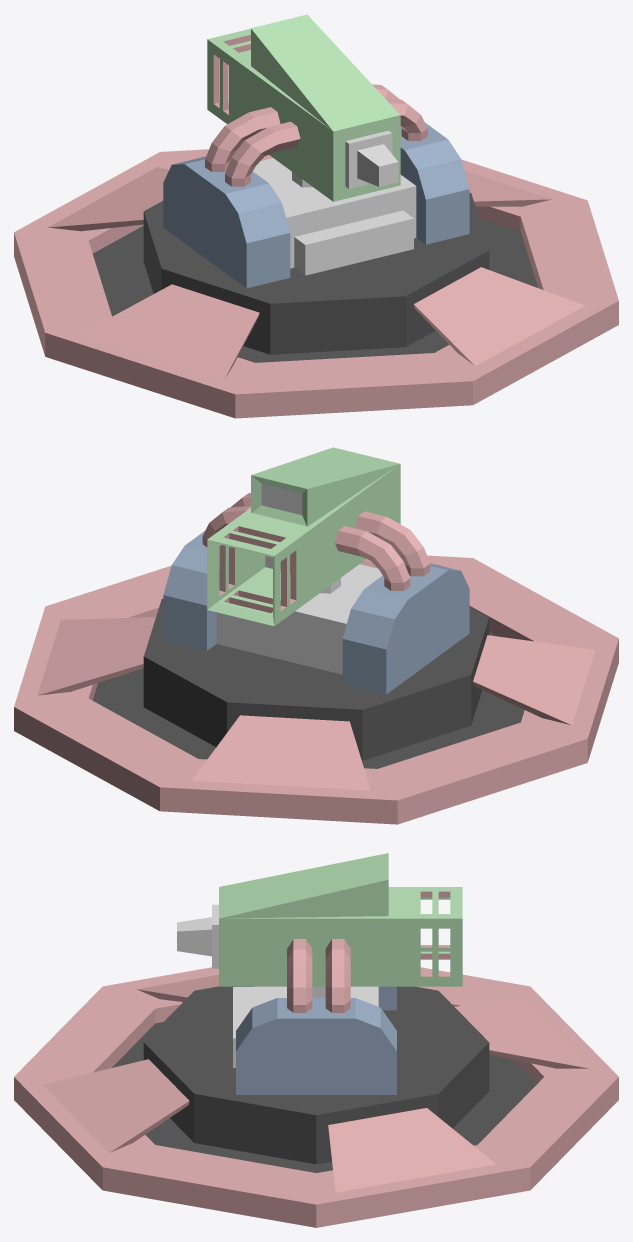
The model's file is TorreDanoEmAreaAVC3.fbx.
The picture shows the model from 3 angles, top to bottom: view 1: azimuth 30°, elevation 25°; view 2: azimuth 150°, elevation 25°; view 3: azimuth 270°, elevation 25°; orthographic projection. The views are drawn at different scales.
Visible parts, largest first — view 1: Torre, Base; view 2: Base, Torre; view 3: Torre, Base.
Part boxes in pixels (x1=…): Torre: x1=143, y1=14, x2=489, y2=354; Base: x1=14, y1=149, x2=618, y2=418; Base: x1=14, y1=555, x2=618, y2=824; Torre: x1=143, y1=447, x2=489, y2=760; Torre: x1=143, y1=853, x2=489, y2=1164; Base: x1=14, y1=967, x2=618, y2=1227.
Size of the model in its own units: 581 by 248 by 581.
